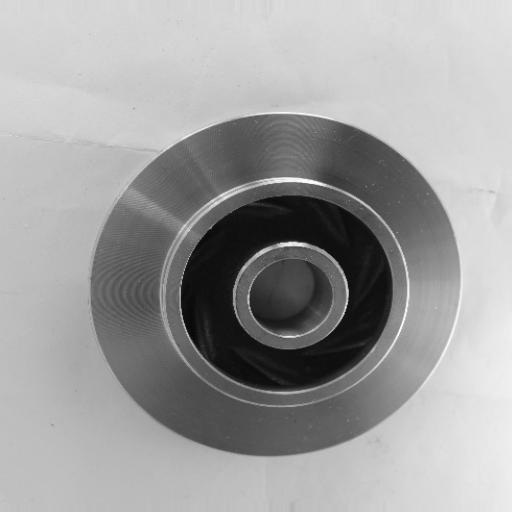polished_casting: (88, 111, 463, 461)
